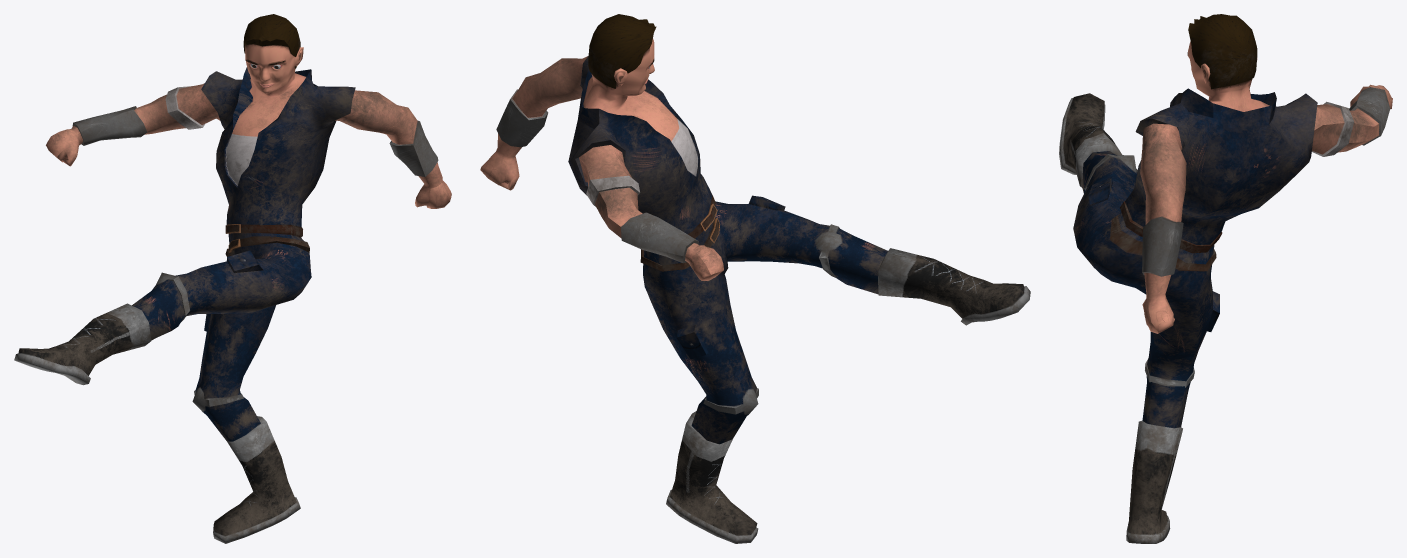
File: Anim_ataque_f3_jugador.0032.obj
3 renders of one model, left to right at view 1: azimuth 30°, elevation 25°; view 2: azimuth 150°, elevation 25°; view 3: azimuth 270°, elevation 25°, orthographic. The views are drawn at different scales.
Visible parts, largest first — view 1: polySurface1; view 2: polySurface1; view 3: polySurface1.
Part boxes in pixels (x1,y1,x2,y2): polySurface1: (14,14,451,543); polySurface1: (480,14,1030,543); polySurface1: (1059,14,1392,543).
Size of the model in its own units: 9.41 by 9.24 by 5.05.
